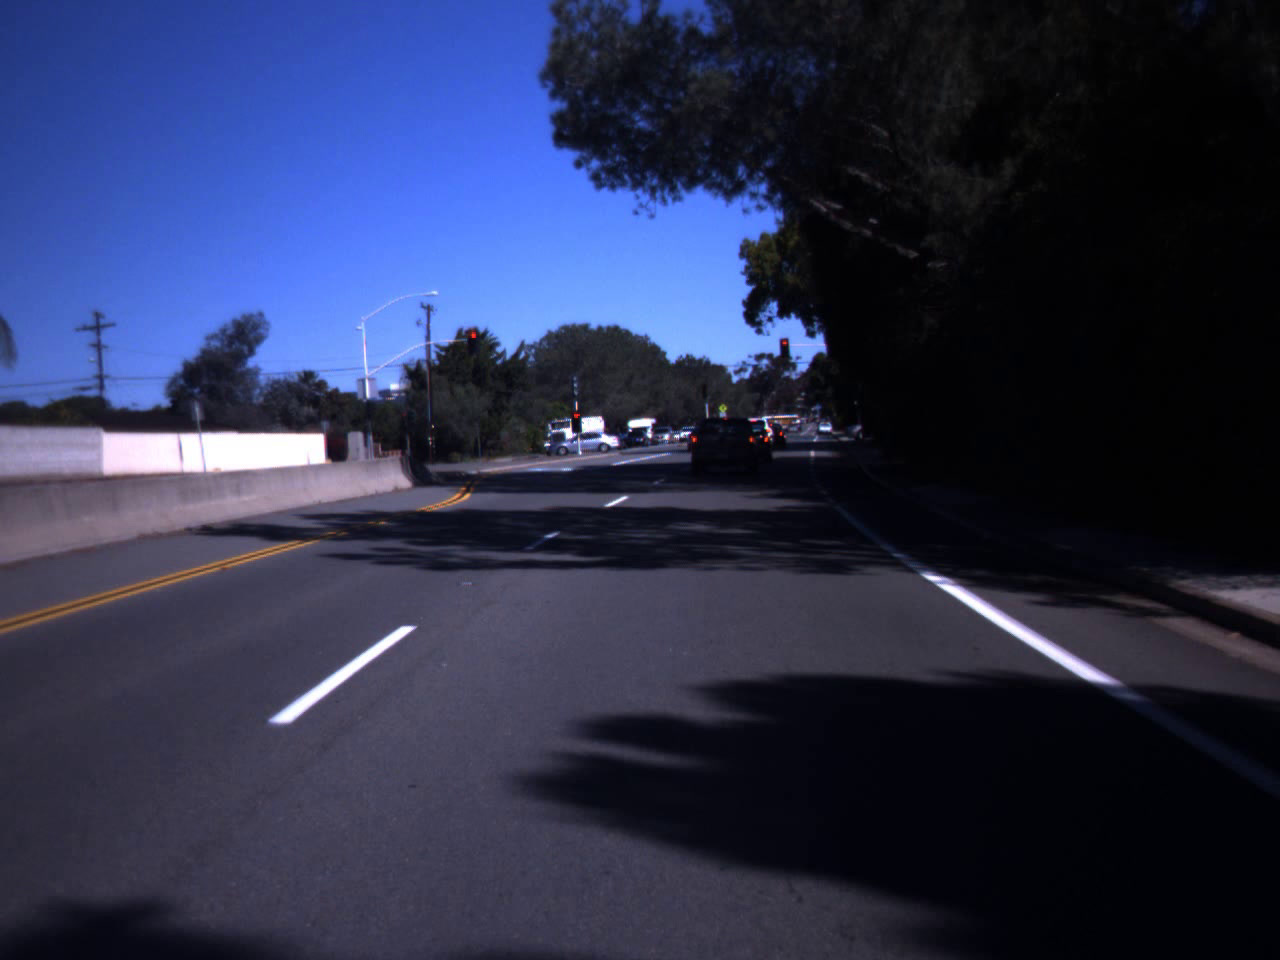stop: (468, 330, 480, 352), (570, 412, 582, 430)
